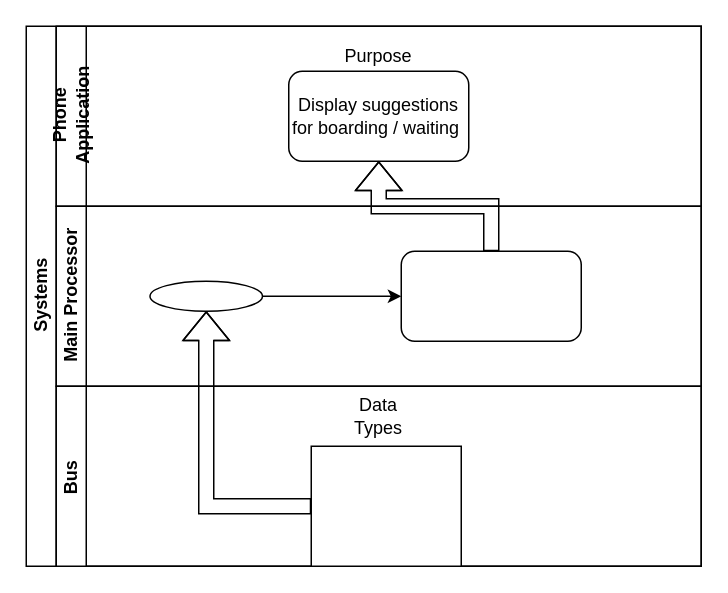
The diagram is 728 pixels wide and 593 high, and some of its shapes have lost their labels. Each missing label, with the centre of its shape:
"-GPS(Route) -# of people in bus / at stop -Bus frequency" goes at (x=385, y=505).
"Collect" goes at (x=205, y=295).
"Learn and provide suggestions with machine learning algorithm" goes at (x=490, y=295).
